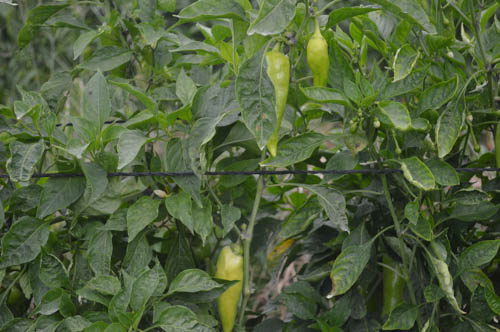ChiliPepper: (260, 53, 291, 159), (215, 246, 242, 332), (303, 37, 328, 90)
